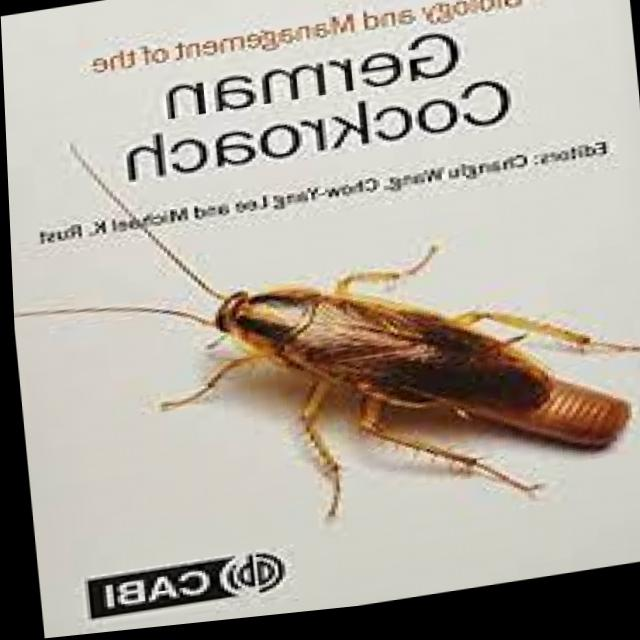Cockroach: (8, 170, 640, 581)
